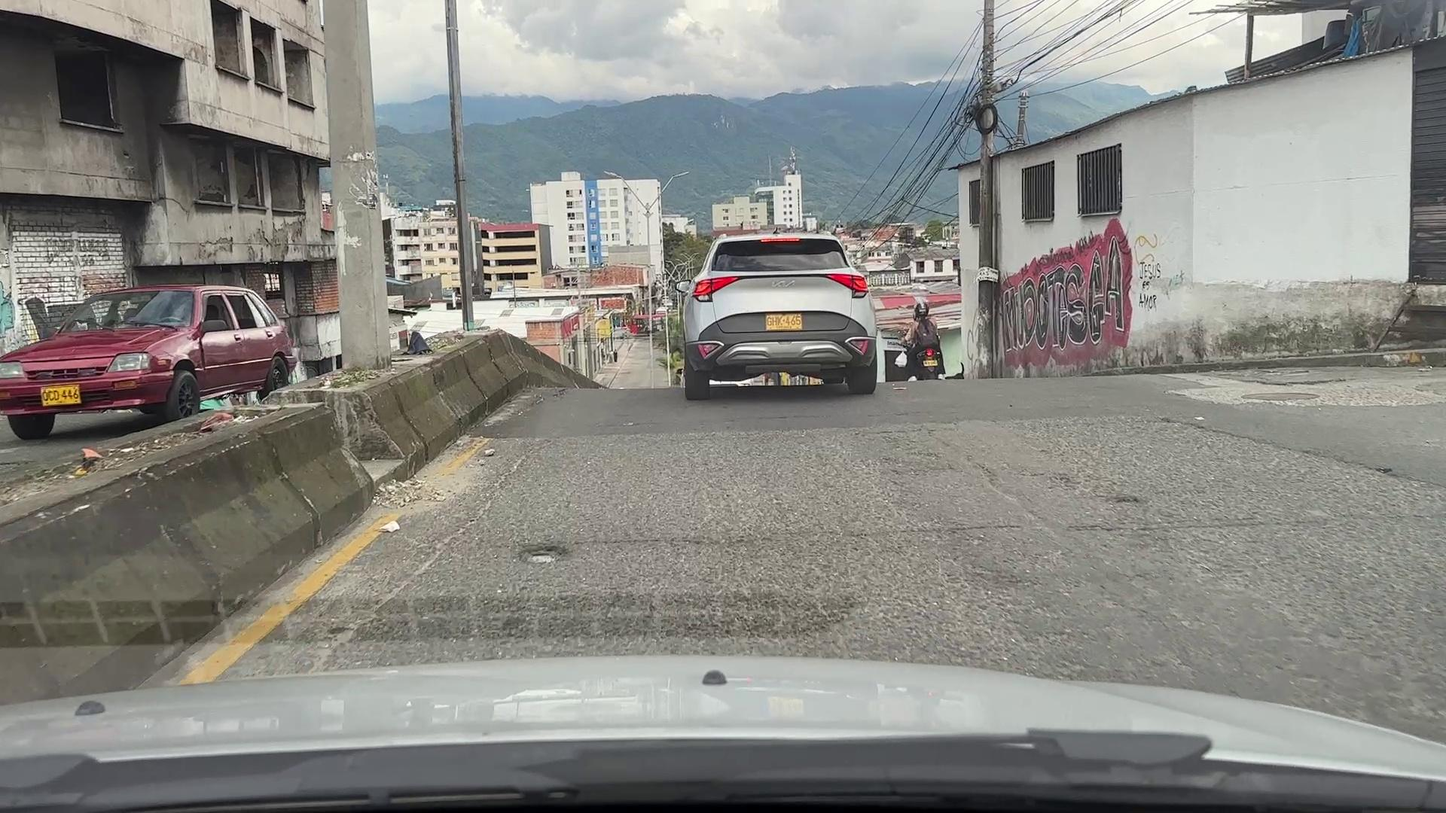bache: (520, 546, 566, 563)
